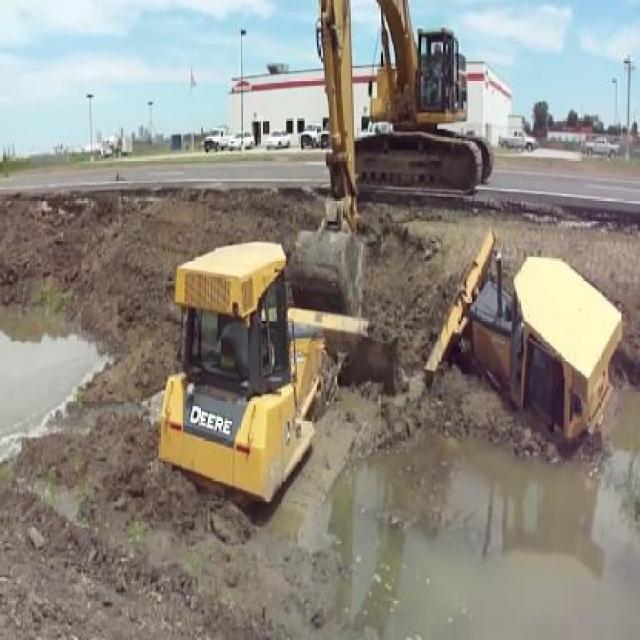Excavator: (293, 0, 492, 308)
